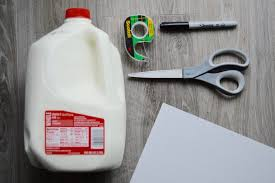milk: (26, 8, 125, 175)
